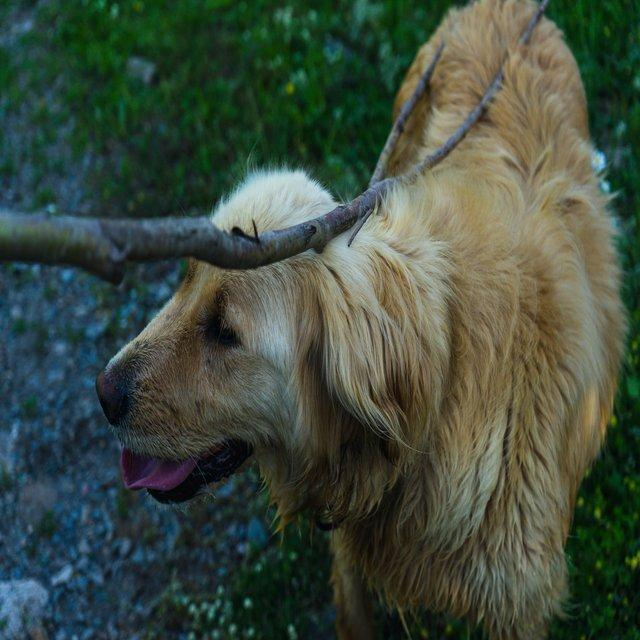retriever: (93, 0, 629, 638)
